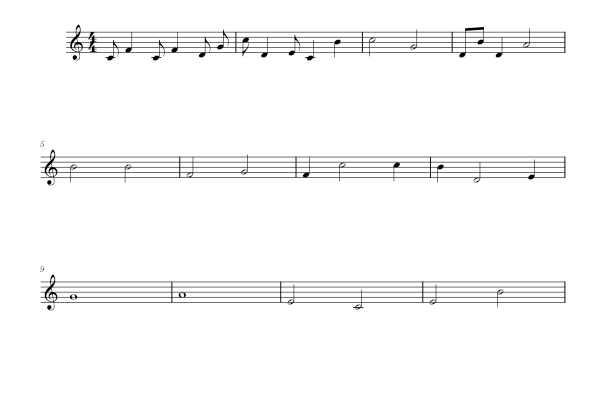Treble Clef: (66, 20, 86, 66), (41, 147, 61, 189), (42, 273, 61, 314)
